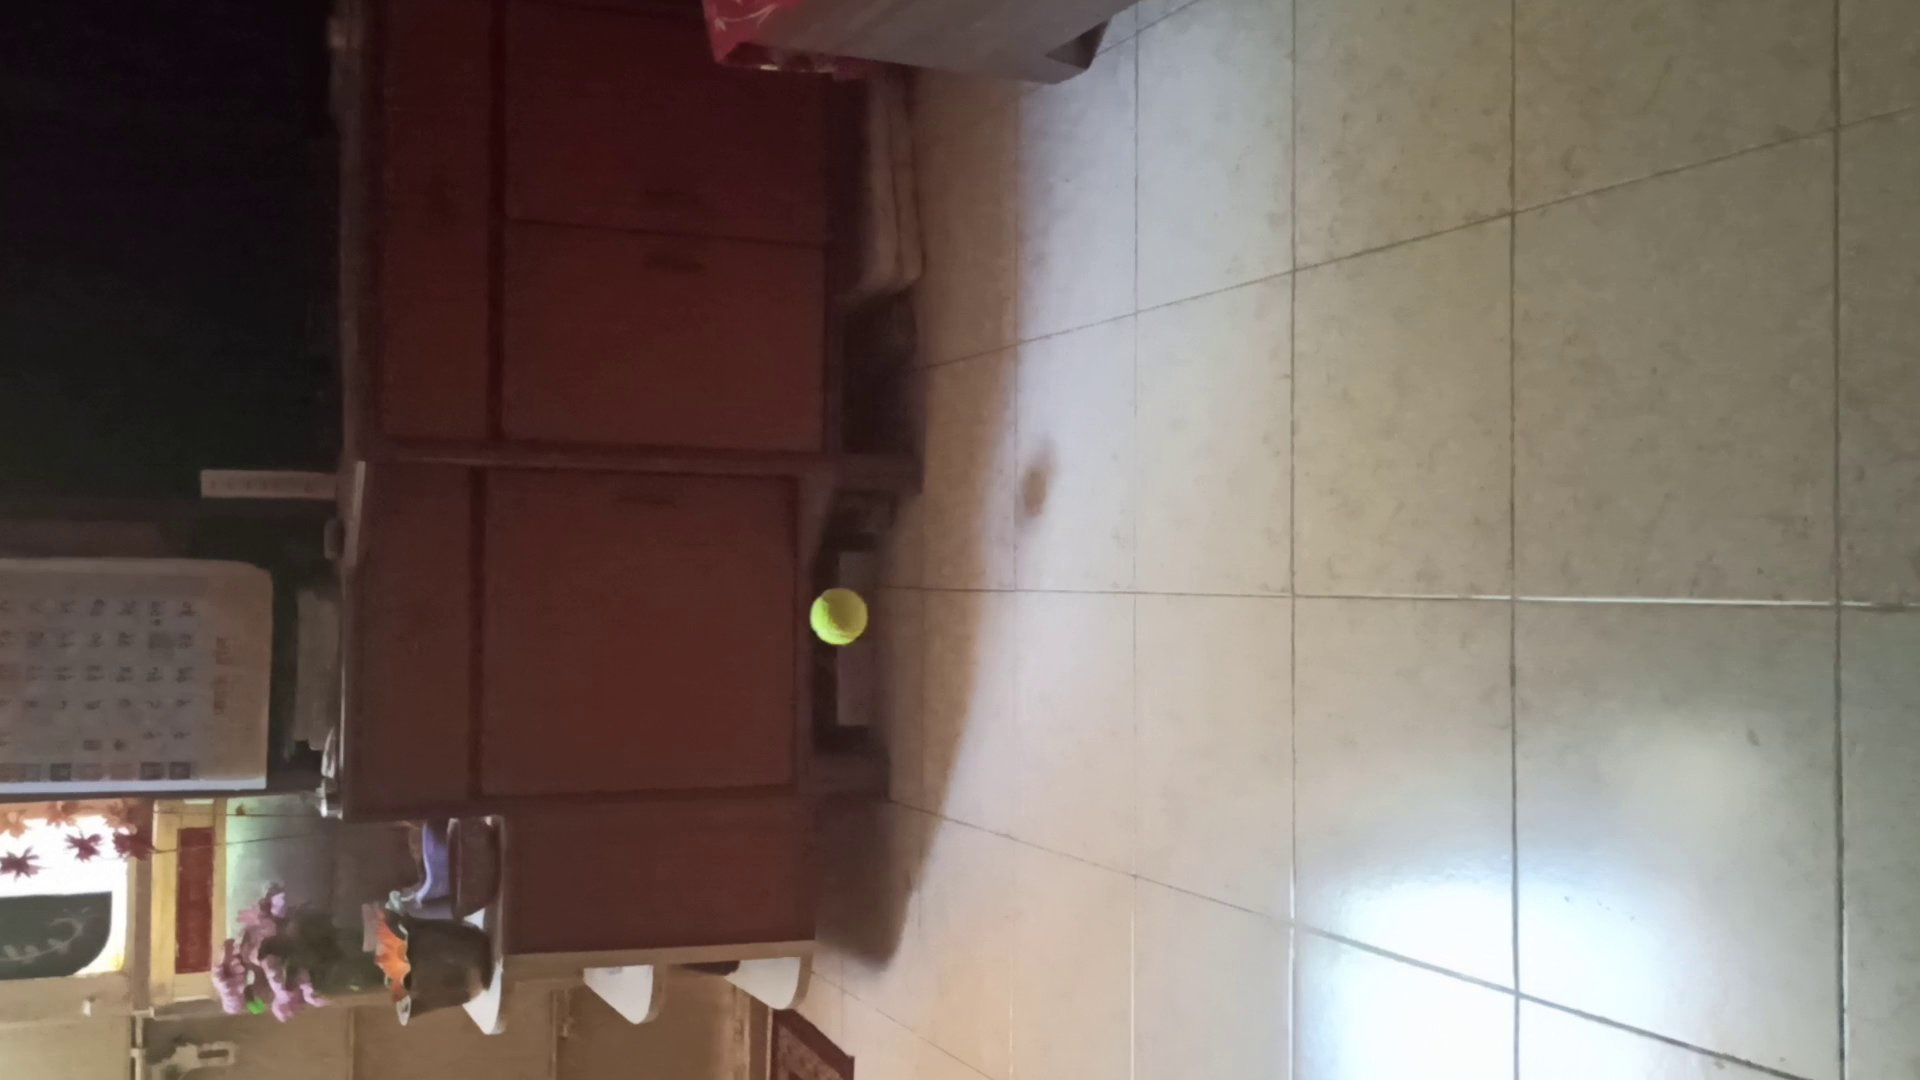Tennis-Ball: (810, 588, 868, 645)
